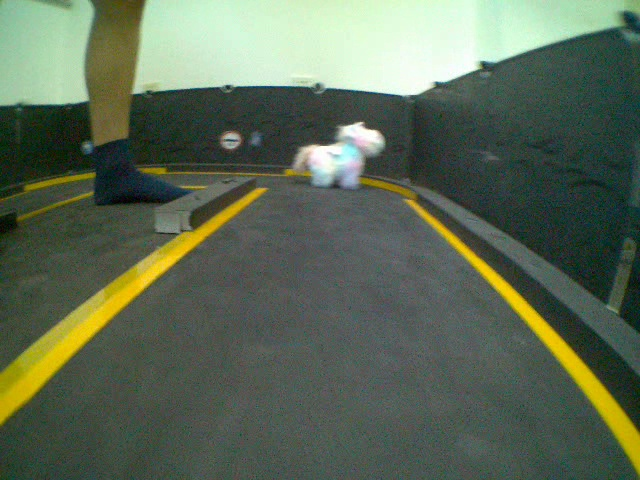unicorn: (290, 115, 388, 197)
